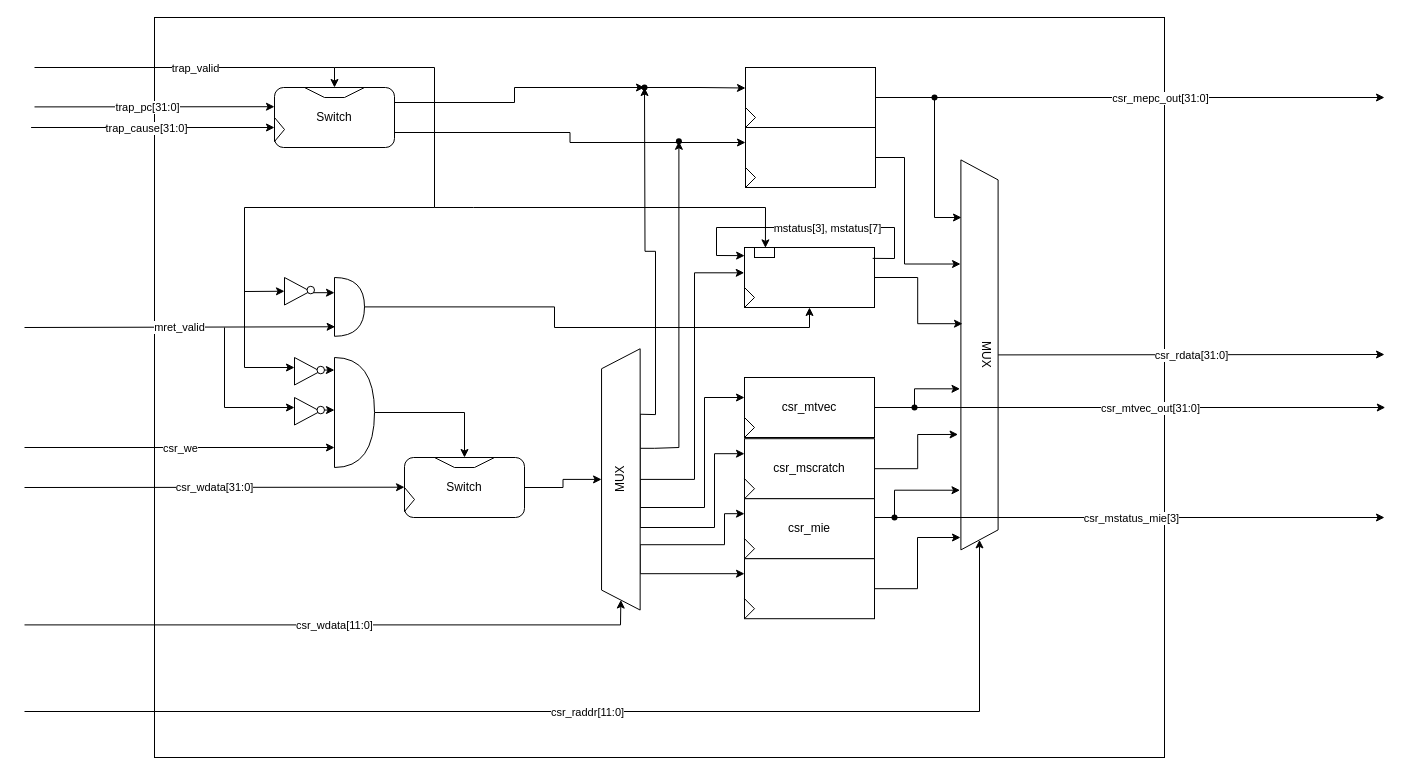
Some shapes in this 1411 by 775 pixel diagram are drawn without their labels. Each missing label, with the centre of its shape:
"csr_mcause[31:0]" goes at point (810, 157).
"csr_mepc[31:0]" goes at point (810, 97).
"csr_mhartid" goes at point (809, 588).
"csr_mstatus[31:0]" goes at point (809, 277).
